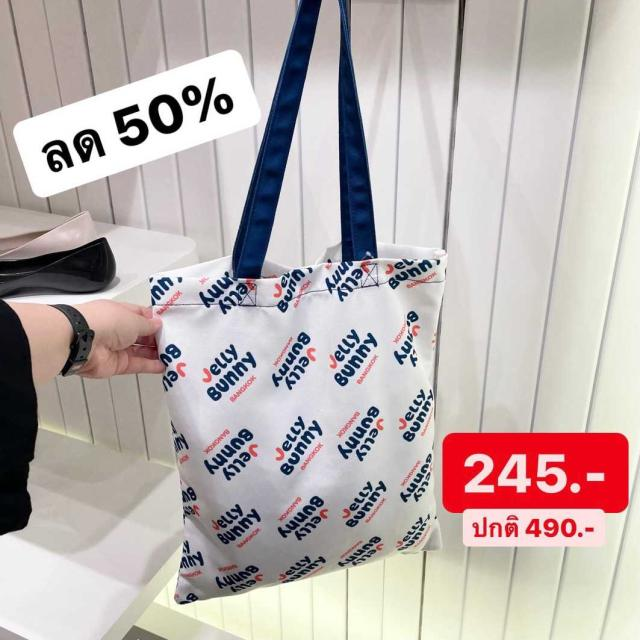handbag: (143, 207, 454, 614)
